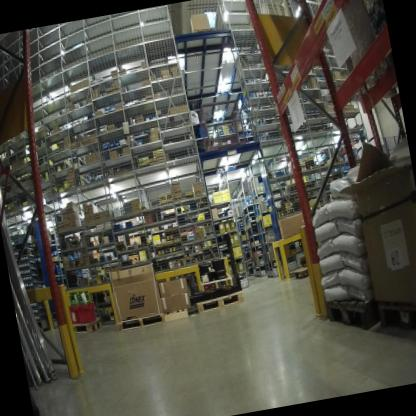pallet: (335, 45, 398, 107), (321, 285, 378, 343), (367, 290, 416, 346), (190, 285, 248, 317), (115, 309, 167, 336), (67, 312, 105, 340), (197, 274, 236, 296), (289, 260, 314, 284), (162, 305, 192, 324), (191, 23, 217, 38)
small_load_carrier: (75, 297, 99, 329), (61, 301, 80, 332)
stillage: (195, 92, 249, 158)
